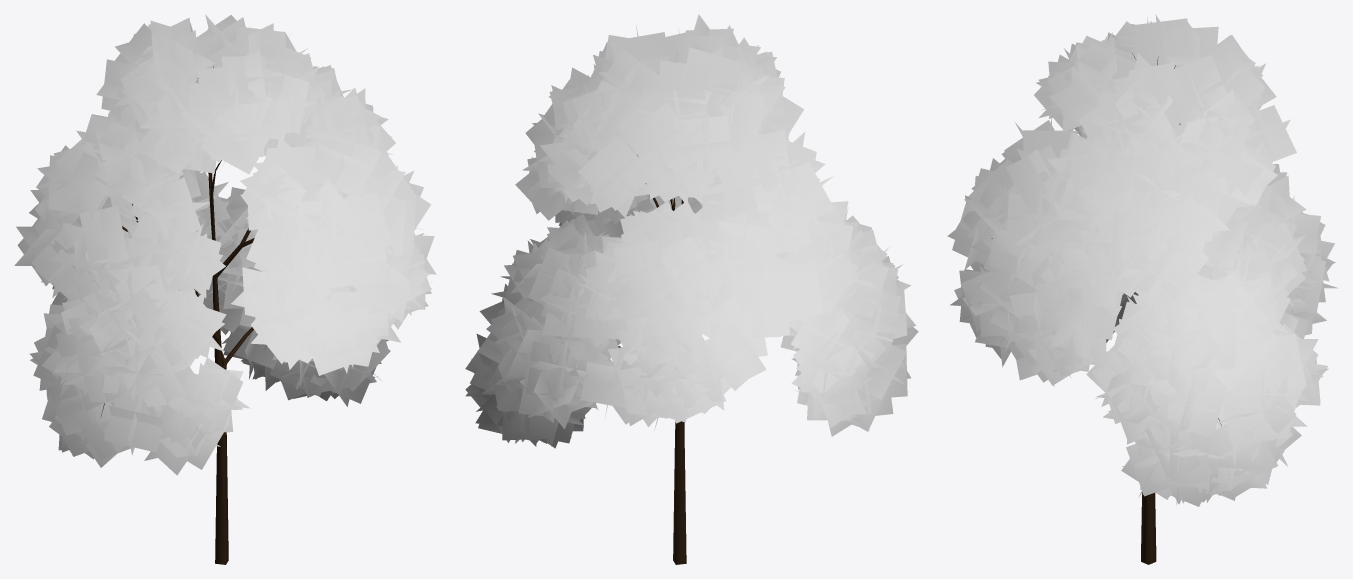
File: Tree1_LOD1.fbx
3 renders of one model, left to right at view 1: azimuth 30°, elevation 25°; view 2: azimuth 150°, elevation 25°; view 3: azimuth 270°, elevation 25°, orthographic.
Visible parts, largest first — view 1: Leaves_LOD1, tree_LOD1; view 2: Leaves_LOD1, tree_LOD1; view 3: Leaves_LOD1, tree_LOD1.
Boxes of the visible parts, box(x1,y1,x2,y2) form: Leaves_LOD1: box(14, 14, 436, 475); tree_LOD1: box(100, 66, 254, 564); Leaves_LOD1: box(465, 14, 918, 448); tree_LOD1: box(618, 183, 686, 564); Leaves_LOD1: box(947, 14, 1338, 506); tree_LOD1: box(991, 53, 1221, 564).
Bounding box in the file's own units: 5.27 × 7.13 × 4.83.
